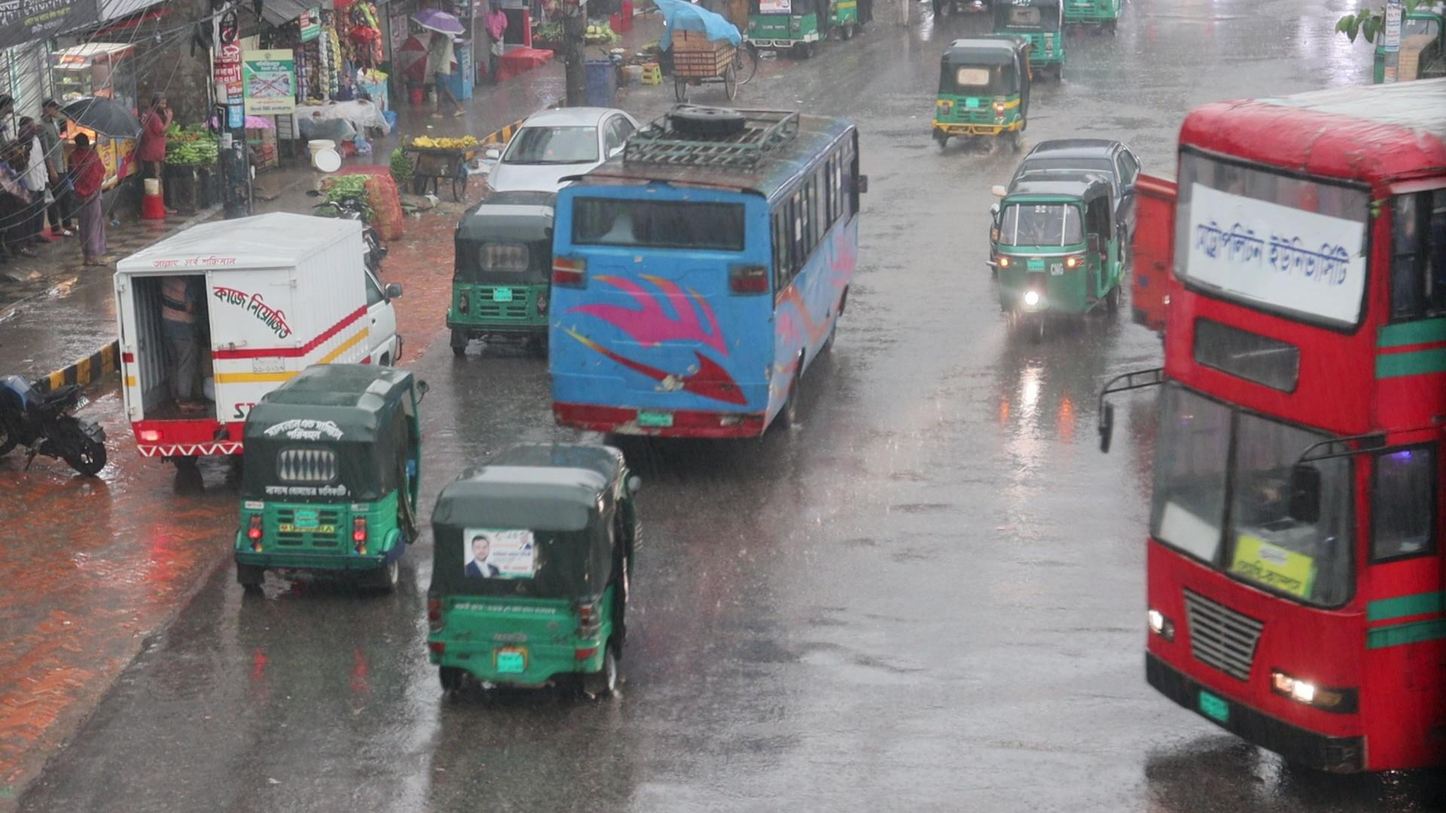Bus: (536, 97, 869, 440)
